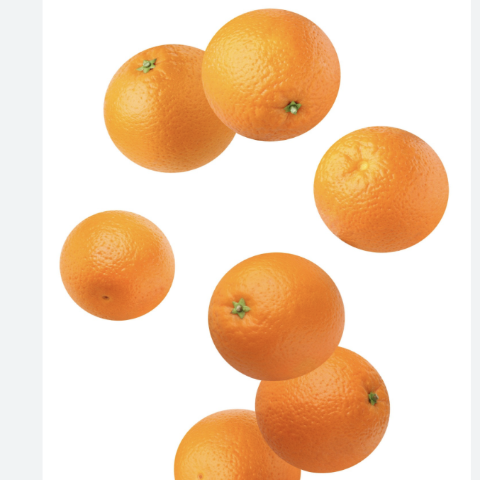orange: (194, 0, 349, 147), (242, 339, 411, 473), (307, 124, 460, 272), (94, 39, 247, 175), (199, 250, 349, 386), (57, 201, 175, 326), (165, 395, 303, 480)
